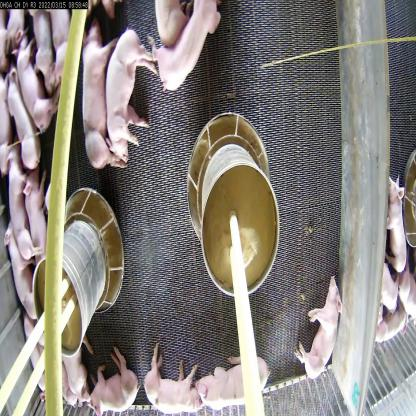Pig: (102, 30, 162, 162), (145, 0, 225, 98), (80, 24, 125, 178), (291, 272, 343, 378), (139, 344, 206, 415), (193, 355, 271, 411), (3, 222, 43, 328), (17, 40, 63, 132), (84, 342, 140, 416), (7, 66, 43, 173), (6, 143, 35, 267), (22, 166, 54, 263), (30, 2, 59, 90), (61, 335, 93, 413), (49, 3, 77, 86), (387, 169, 409, 272), (21, 322, 50, 396), (152, 0, 189, 46), (49, 357, 78, 415)
